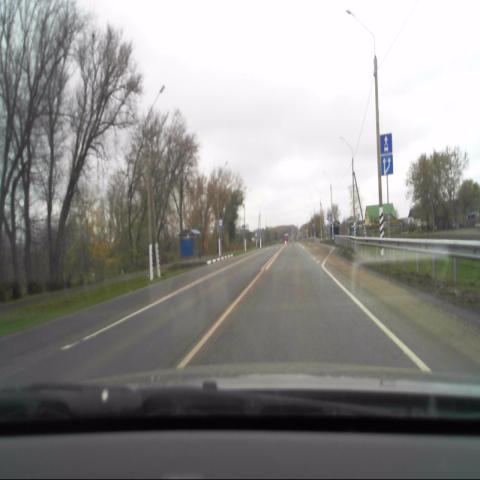5_14: (380, 132, 393, 153)
5_15_3: (381, 154, 394, 176)
